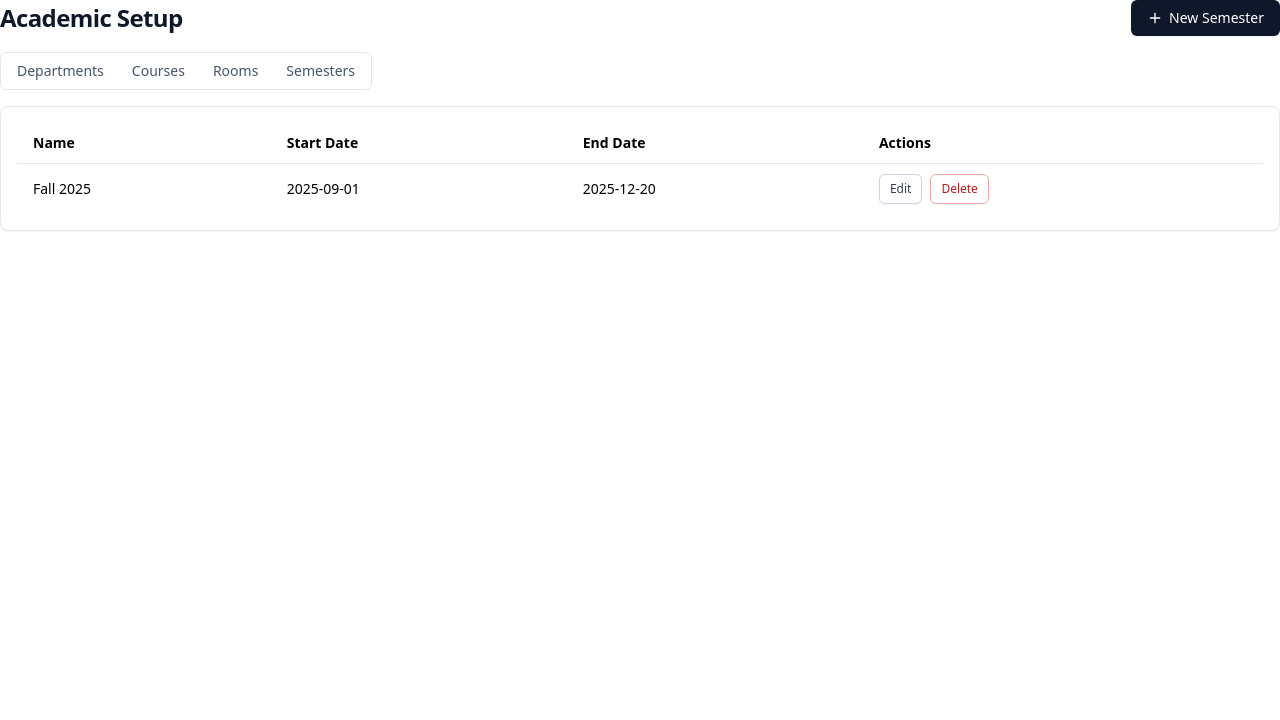
Test: AcademicSetupSemestersPage › shows a specific message when start_date is after end_date (422)
The image size is (1280, 720).
Click the button "New Semester": (1206, 18) x1=1131 y1=0 x2=1279 y2=36
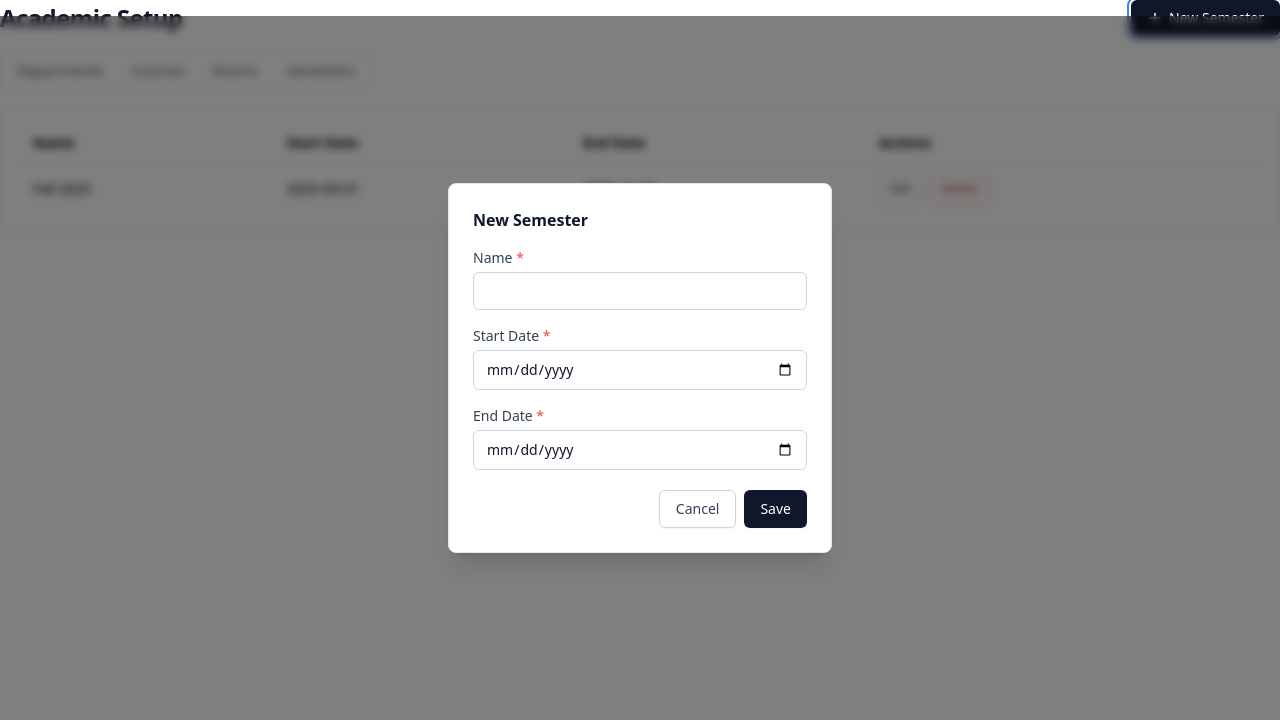
In the field labelled "Name *": (640, 291) x1=473 y1=272 x2=807 y2=310, type "Bad Semester"
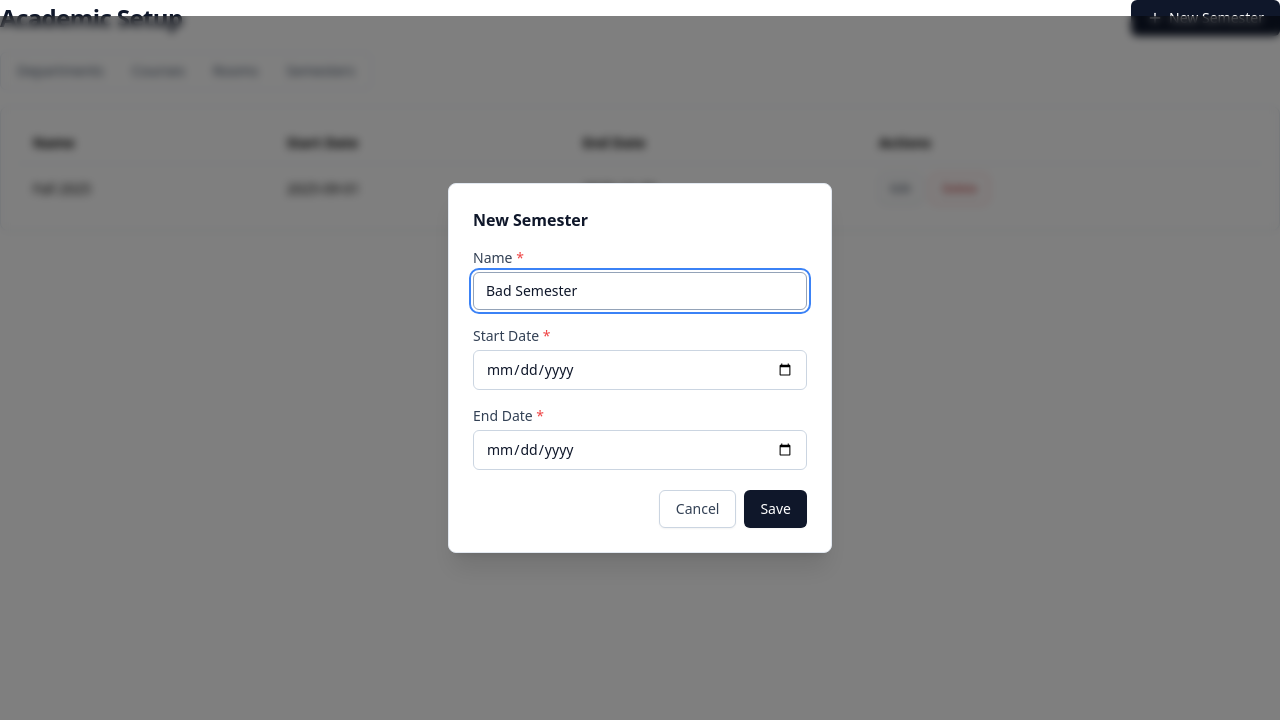
In the date field labelled "Start Date *": (640, 370) x1=473 y1=350 x2=807 y2=390, type "2026-06-01"
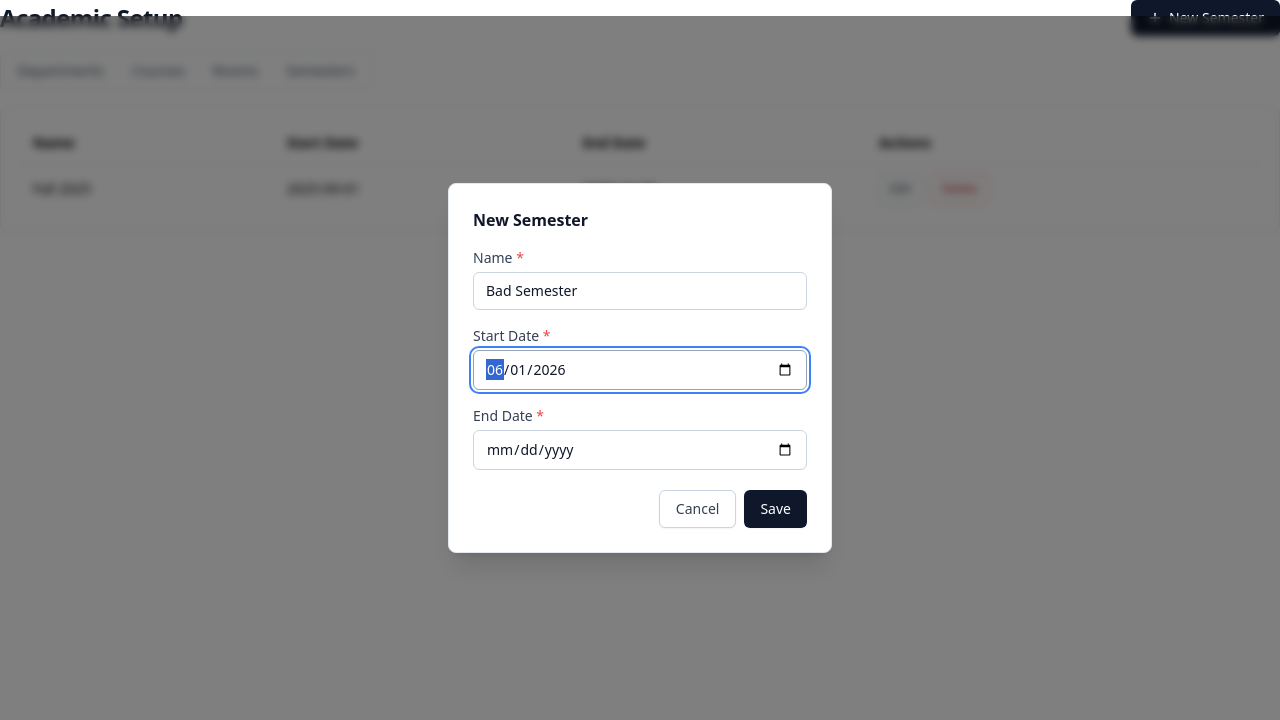
In the date field labelled "End Date *": (640, 450) x1=473 y1=430 x2=807 y2=470, type "2026-01-01"
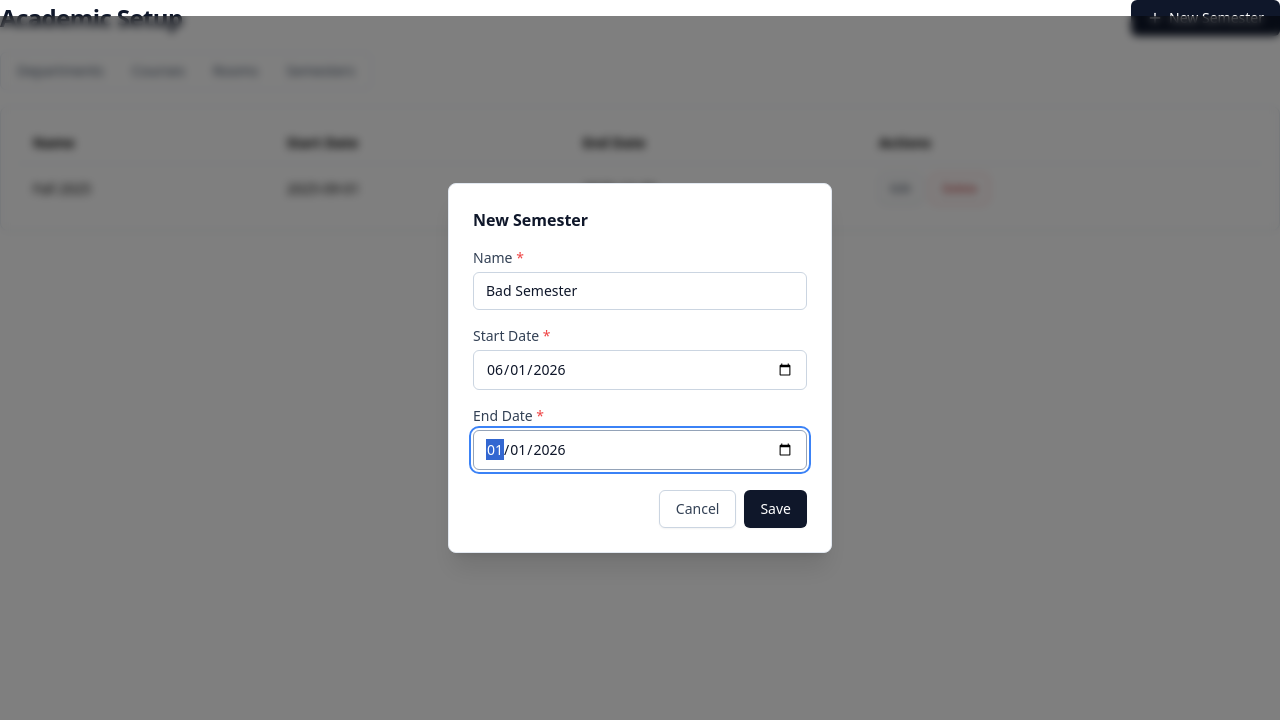
Click the button "Save": (776, 509) x1=744 y1=490 x2=807 y2=528
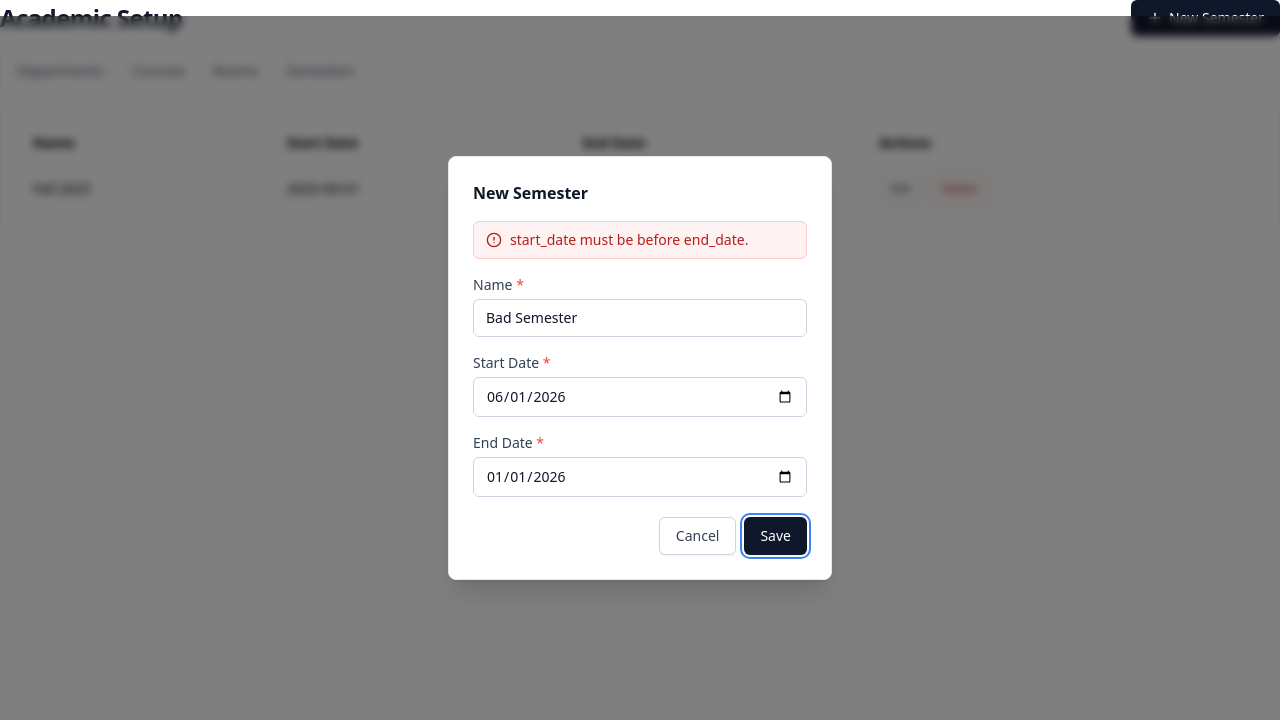
Result: the text "start_date must be before end_date." is shown at x1=510 y1=230 x2=748 y2=250
